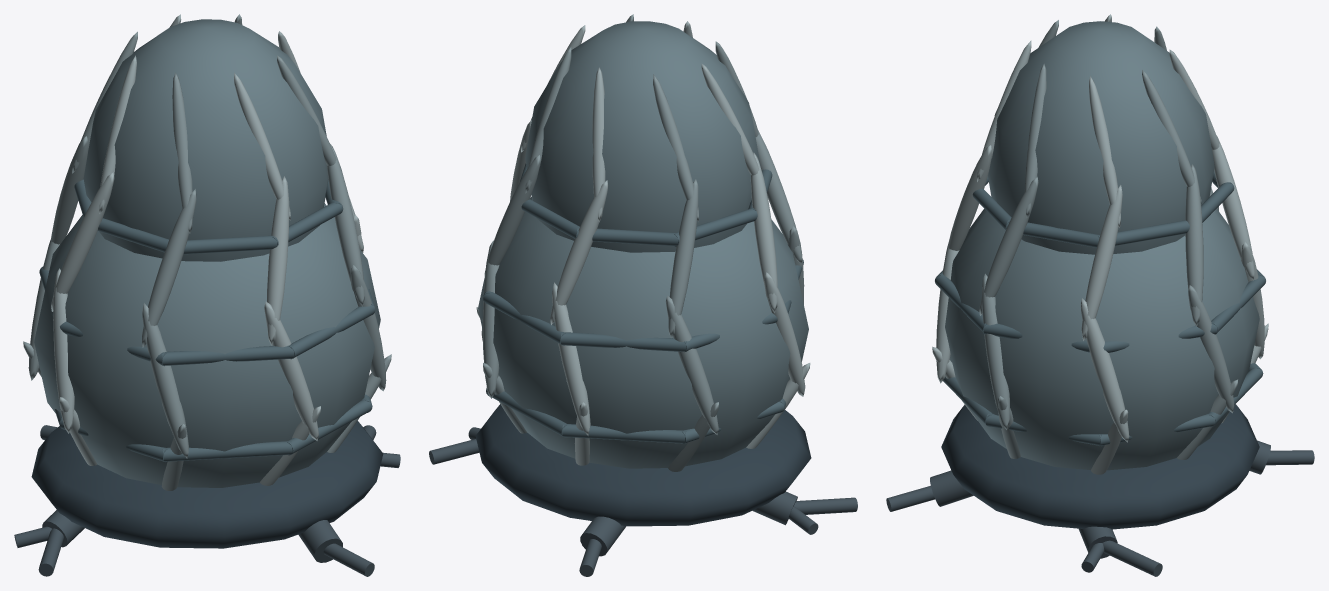
Rendered from CMU3DHiveCMUHunterShipPlacedBaseItemEggItemSouthOffsetNeg7x15.glb.
3 renders of one model, left to right at view 1: azimuth 30°, elevation 25°; view 2: azimuth 150°, elevation 25°; view 3: azimuth 270°, elevation 25°, orthographic. The views are drawn at different scales.
Visible parts, largest first — view 1: full leathery lower shell, tapered egg crown, interlocking longitudinal shell fold (×19), leathery egg foot, rolled organic lip (×9), sinuous anchoring root (×4), forked root tip; view 2: full leathery lower shell, tapered egg crown, interlocking longitudinal shell fold (×16), leathery egg foot, rolled organic lip (×7), sinuous anchoring root (×5); view 3: full leathery lower shell, tapered egg crown, interlocking longitudinal shell fold (×18), leathery egg foot, rolled organic lip (×11), sinuous anchoring root (×5).
Part boxes in pixels (bbox=[...]): full leathery lower shell: bbox=[34, 203, 380, 487]; tapered egg crown: bbox=[83, 19, 328, 261]; interlocking longitudinal shell fold (×19): bbox=[28, 31, 391, 490]; leathery egg foot: bbox=[31, 421, 383, 548]; rolled organic lip (×9): bbox=[59, 201, 375, 461]; sinuous anchoring root (×4): bbox=[38, 510, 374, 576]; forked root tip: bbox=[14, 526, 51, 547]; full leathery lower shell: bbox=[478, 197, 808, 468]; tapered egg crown: bbox=[525, 21, 760, 252]; interlocking longitudinal shell fold (×16): bbox=[482, 47, 810, 471]; leathery egg foot: bbox=[475, 404, 811, 526]; rolled organic lip (×7): bbox=[483, 199, 757, 443]; sinuous anchoring root (×5): bbox=[429, 439, 857, 576]; full leathery lower shell: bbox=[945, 208, 1259, 470]; tapered egg crown: bbox=[988, 21, 1214, 254]; interlocking longitudinal shell fold (×18): bbox=[936, 40, 1264, 474]; leathery egg foot: bbox=[941, 404, 1259, 529]; rolled organic lip (×11): bbox=[935, 182, 1265, 445]; sinuous anchoring root (×5): bbox=[886, 450, 1314, 576].
Size of the model in its own units: 0.4678 by 0.5493 by 0.463.
